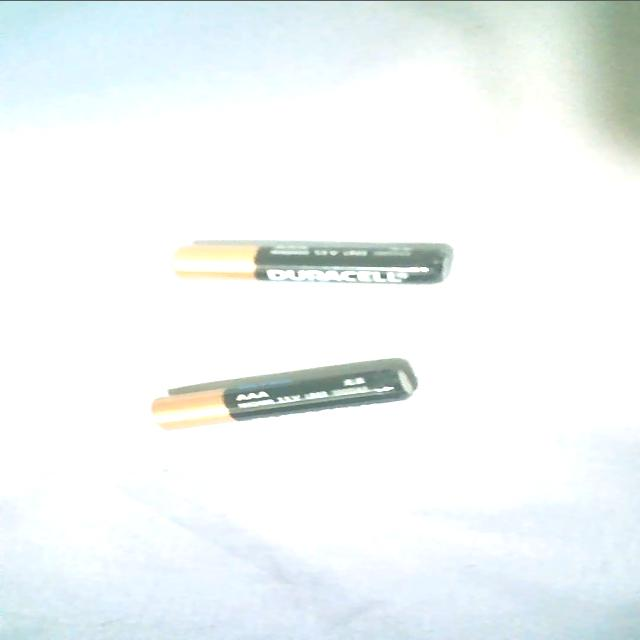AAA: (140, 359, 426, 435), (160, 235, 456, 288)
